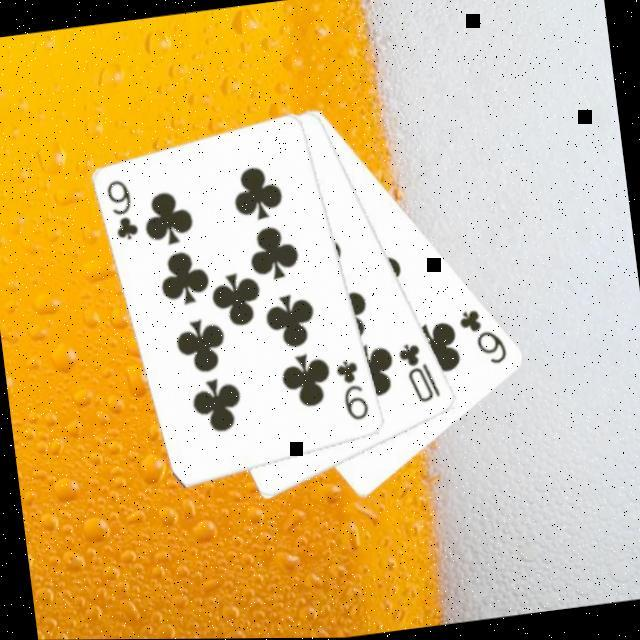10C: (394, 335, 446, 407)
6C: (455, 301, 512, 371)
9C: (333, 353, 375, 425), (102, 173, 144, 245)
